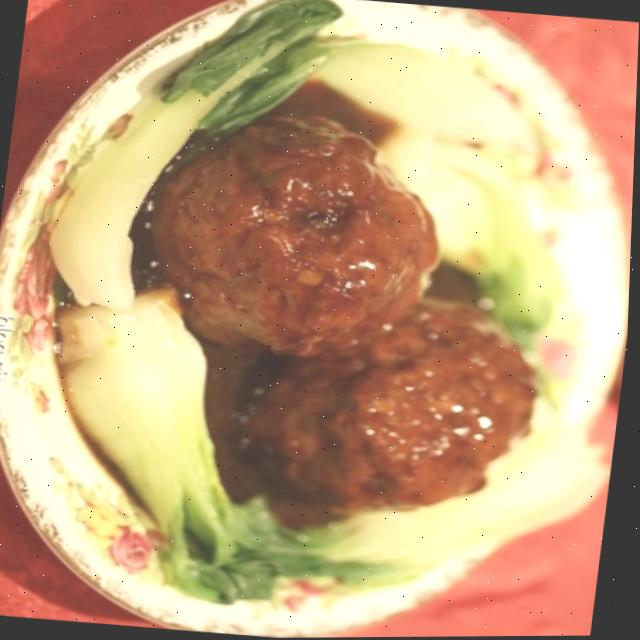猪肉菜式: (3, 5, 640, 640)
